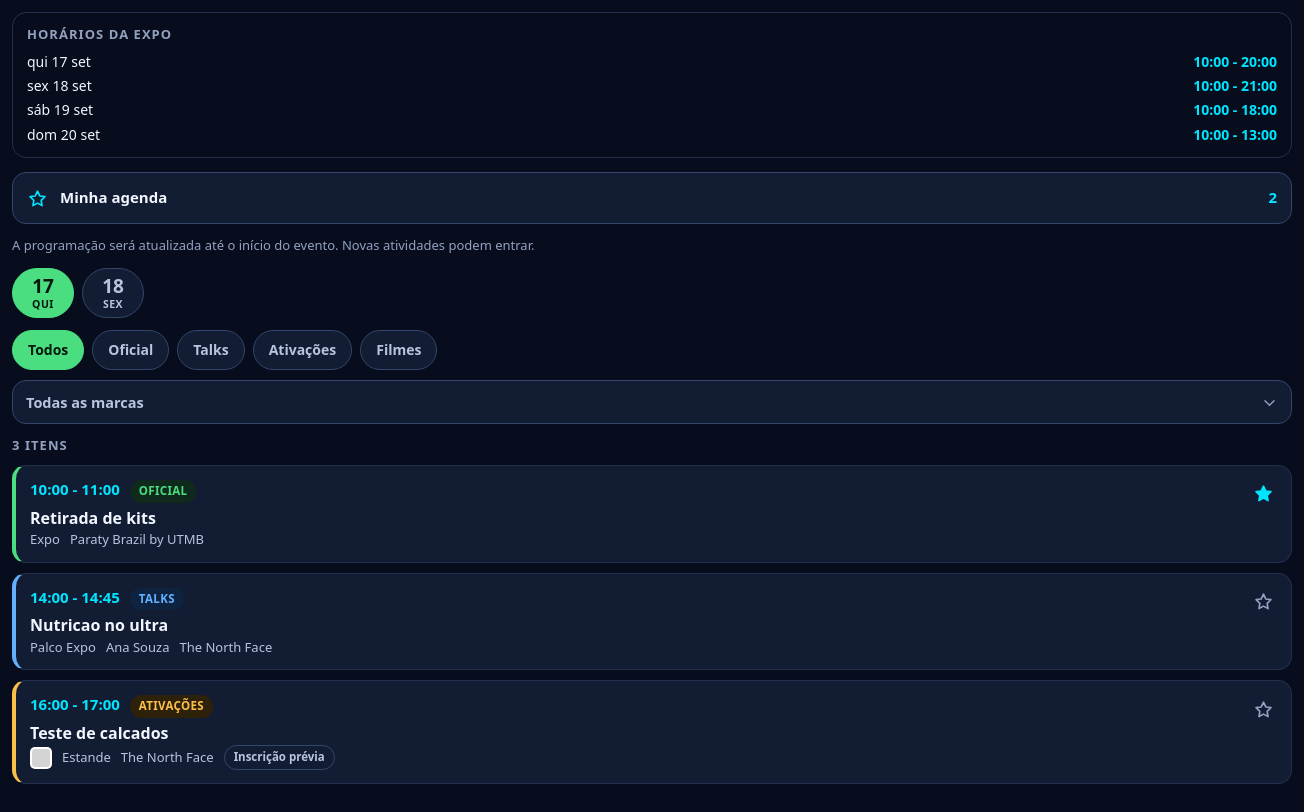
Scenario: agenda do atleta na programacao › junta os quatro dias na agenda, com um titulo por dia
The width and height of the screenshot is (1304, 812).
Click the button "Minha agenda 2": (114, 197) [12,172,1292,224]
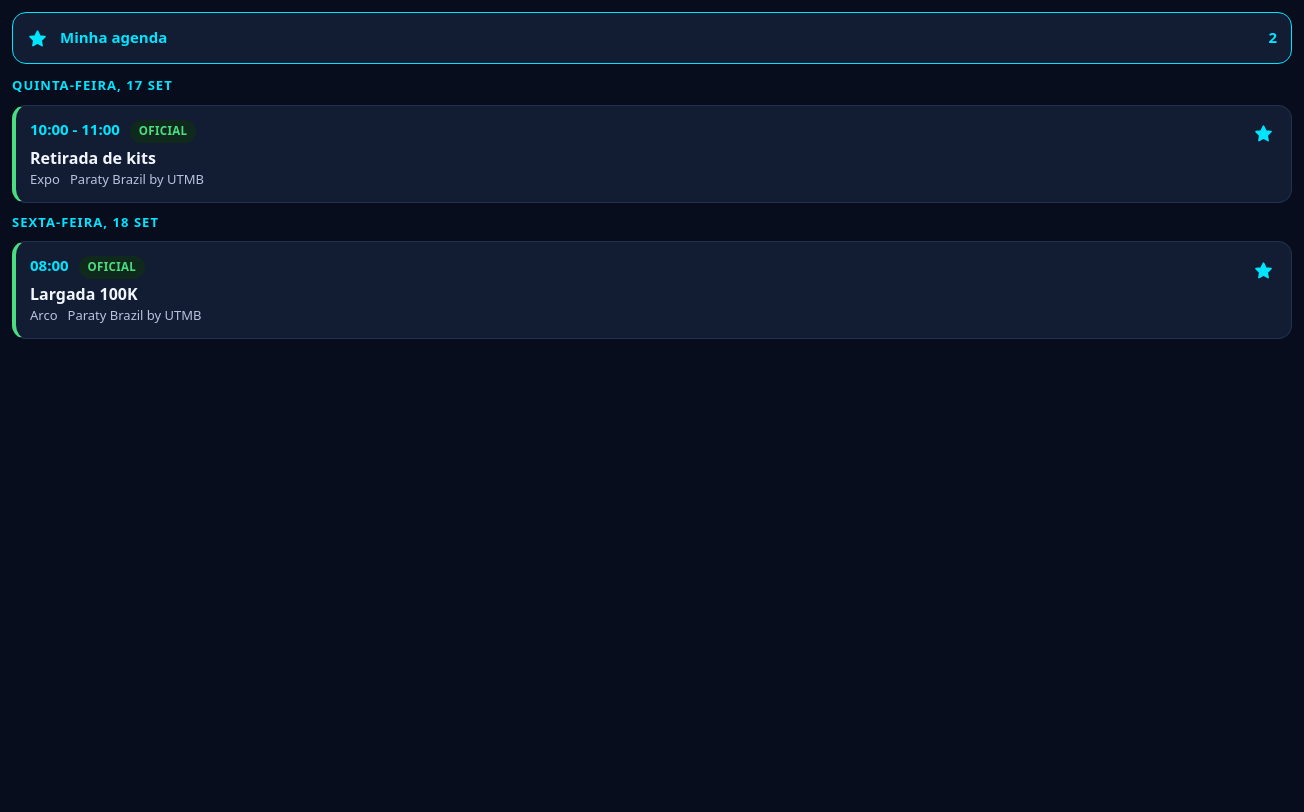
expect the text "Retirada de kits" is shown: met, box [30,146,156,168]
expect the text "Largada 100K" is shown: met, box [30,283,138,305]
expect the number of headings is 2: met, box [12,76,173,94]; [12,212,159,230]
